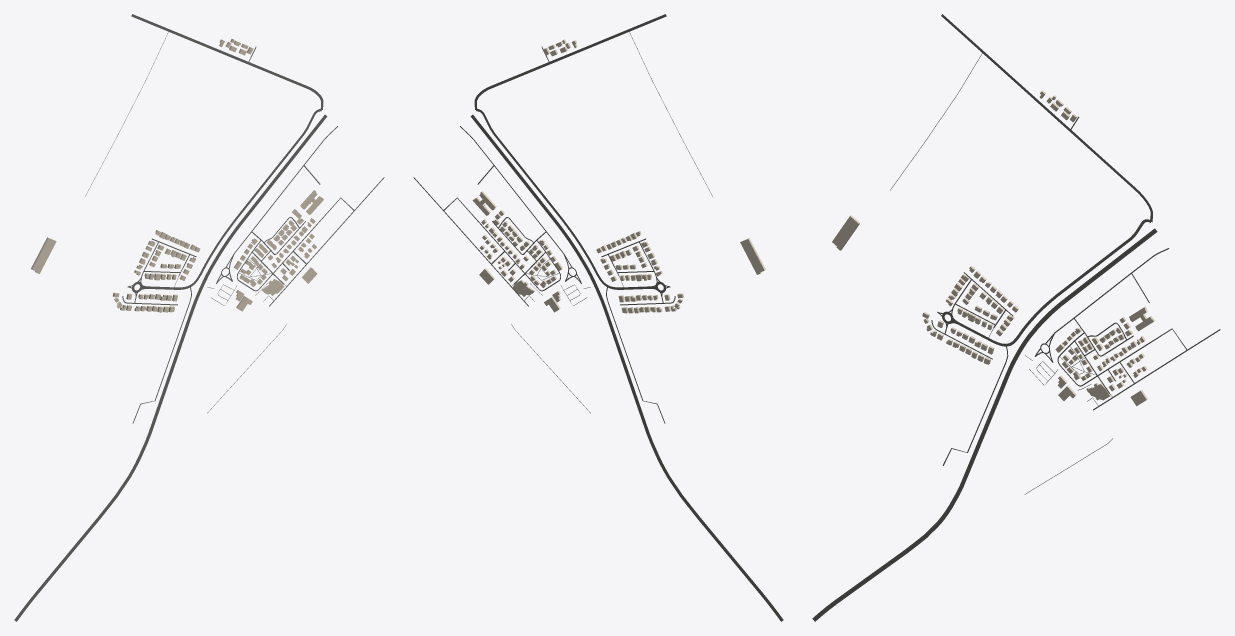
File: historic-palestine-06_23_3476_3174.glb
3 views of the same model, side by side, from view 1: azimuth 30°, elevation 25°; view 2: azimuth 150°, elevation 25°; view 3: azimuth 330°, elevation 25° (orthographic). The views are drawn at different scales.
Parts seen in each view (by area): view 1: Road 3;40, Road 3823, Road 3824.001; view 2: Road 3;40, Road 3823, Road 3824.001; view 3: Road 3;40, Road 3823, Road 3824.001.
Part boxes in pixels (left/top/right/bottom): Road 3;40: left=14, top=114, right=327, bottom=621; Road 3823: left=131, top=14, right=323, bottom=110; Road 3824.001: left=190, top=109, right=321, bottom=286; Road 3;40: left=470, top=114, right=783, bottom=621; Road 3823: left=474, top=14, right=666, bottom=109; Road 3824.001: left=476, top=109, right=607, bottom=286; Road 3;40: left=812, top=228, right=1157, bottom=621; Road 3823: left=941, top=14, right=1152, bottom=222; Road 3824.001: left=1006, top=219, right=1151, bottom=346.
Bounding box in the file's own units: 1280 × 1914 × 8.83.
